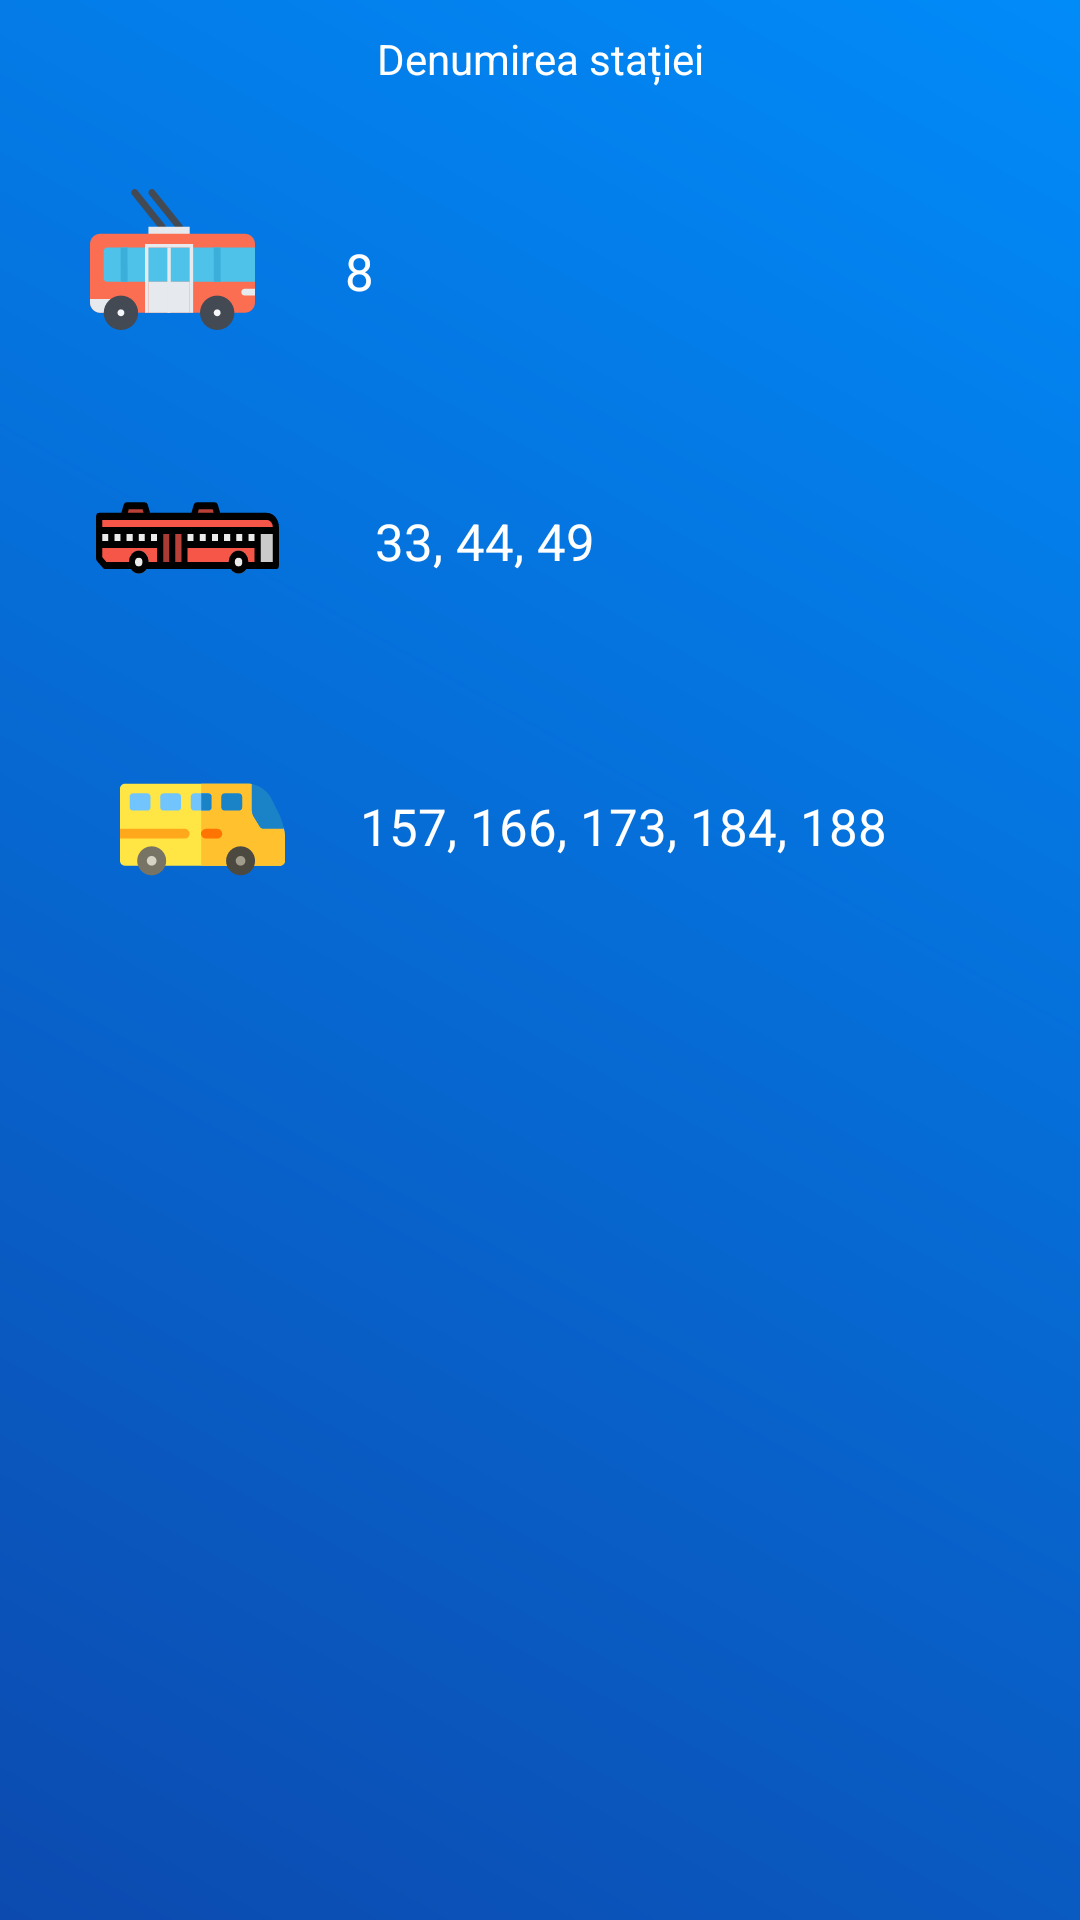

Point at icon controls on the screen. Image size 1080 x 1920, points as (x,y).
transportation: (202,829)
trolleybus: (172,259)
